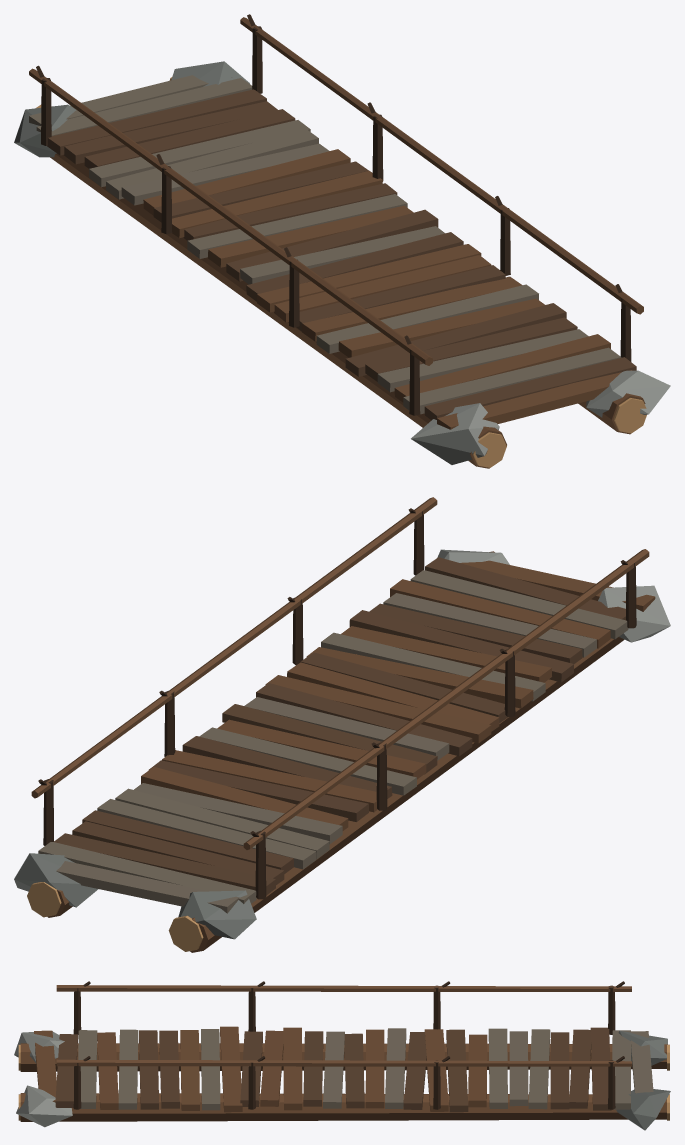
File: forest_log_bridge.glb
3 views of the same model, one above another, from view 1: azimuth 30°, elevation 25°; view 2: azimuth 150°, elevation 25°; view 3: azimuth 270°, elevation 25° (orthographic). The views are drawn at different scales.
Parts seen in each view (by area): view 1: forest_log_bridge; view 2: forest_log_bridge; view 3: forest_log_bridge.
Boxes of the visible parts, x1=… form: forest_log_bridge: x1=14, y1=14, x2=670, y2=468; forest_log_bridge: x1=14, y1=497, x2=670, y2=952; forest_log_bridge: x1=14, y1=981, x2=670, y2=1130.
Size of the model in its own units: 3.99 by 1.67 by 12.79.
